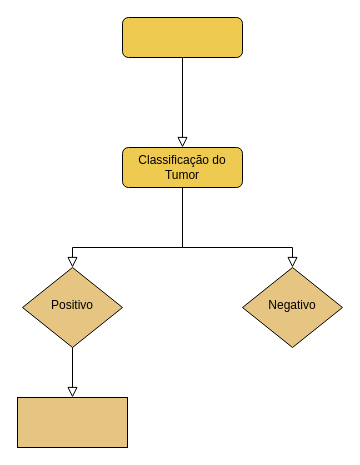
Some shapes in this 360 by 465 pixel diagram are drawn without their labels. Here are the shapes that lost their labels. From the top down, the centre of each, then its label:
At pixel 182 37: "Dados do Paciente".
At pixel 72 422: "Diagnostico Final com Exames Invasivos".
